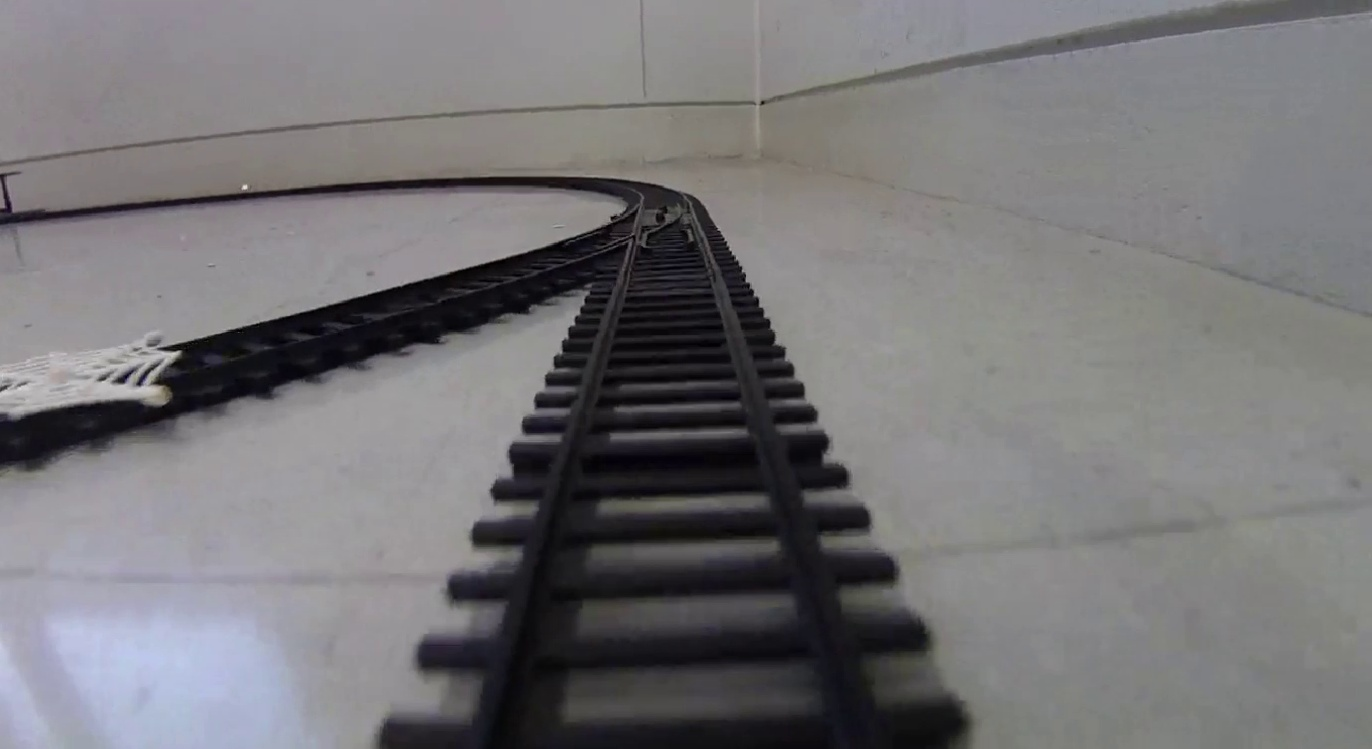web: (5, 337, 173, 411)
